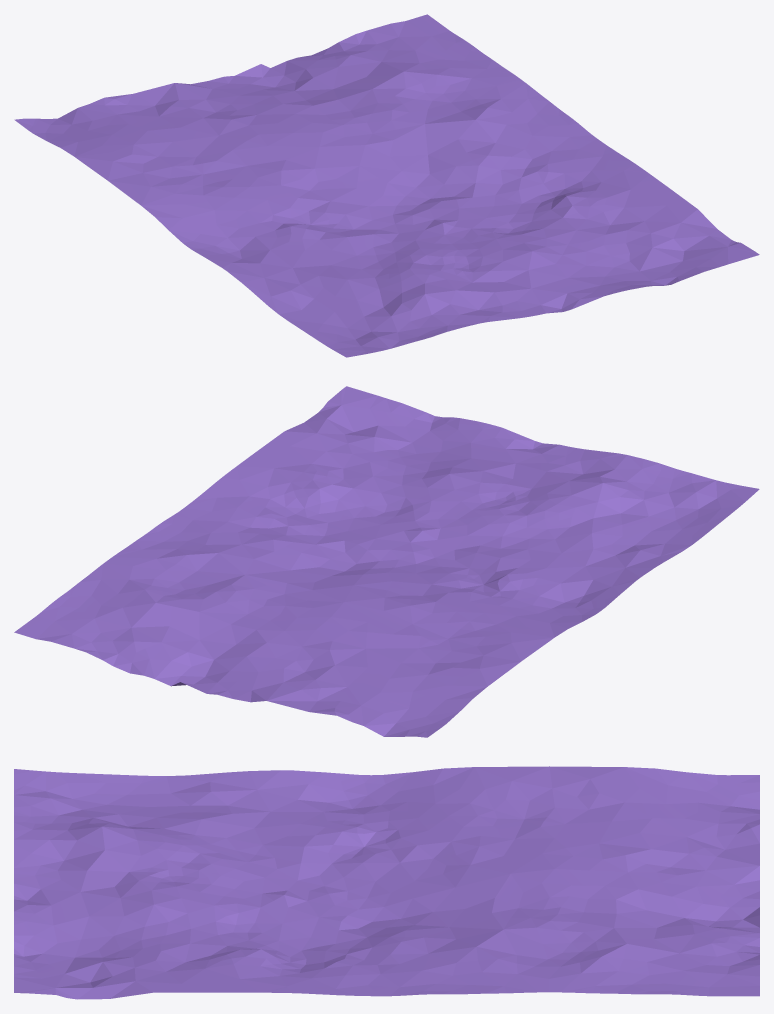
Rendered from ground_035.fbx.
3 views of the same model, one above another, from view 1: azimuth 30°, elevation 25°; view 2: azimuth 150°, elevation 25°; view 3: azimuth 270°, elevation 25° (orthographic). The views are drawn at different scales.
Parts seen in each view (by area): view 1: ground.035; view 2: ground.035; view 3: ground.035.
Boxes of the visible parts, x1,y1,x2,y2 form: ground.035: [14, 14, 759, 357]; ground.035: [14, 386, 759, 737]; ground.035: [14, 766, 759, 999].
Bounding box in the file's own units: 2542 × 140 × 3540.
Materials: 1 (1 with a texture image).
